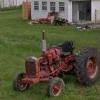Tractor: (17, 35, 100, 97)
